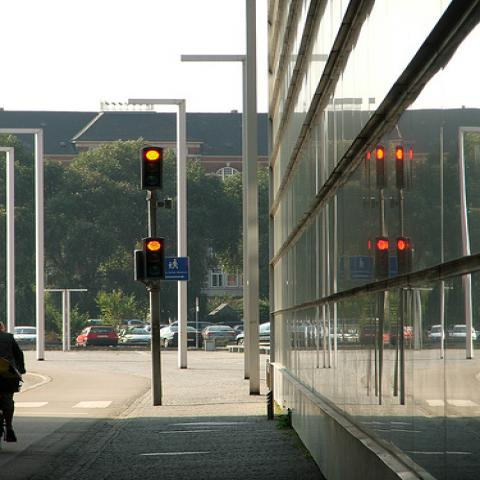car: (79, 314, 433, 353), (74, 326, 118, 348), (160, 326, 204, 347), (235, 320, 270, 346), (12, 326, 36, 351), (446, 324, 478, 342), (201, 326, 236, 341), (120, 328, 151, 344), (168, 322, 218, 331), (360, 324, 378, 347), (428, 324, 441, 344), (142, 325, 167, 333), (232, 324, 245, 334), (0, 322, 7, 333)
